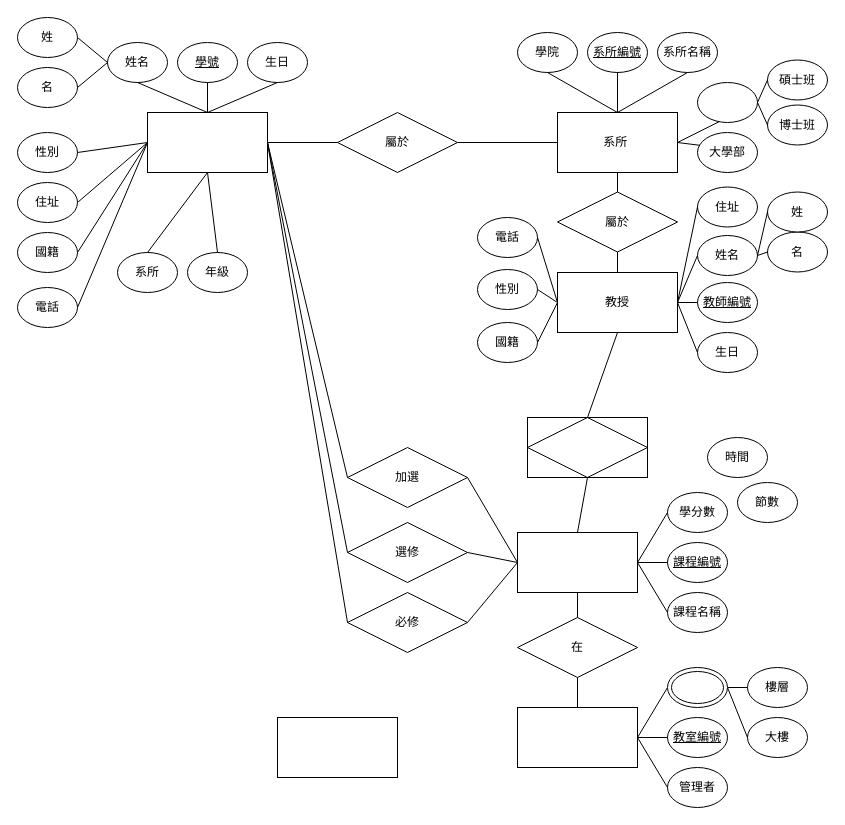
Some shapes in this 845 by 825 pixel diagram are drawn without their labels. Each missing label, with the centre of its shape:
"地點" belongs at [697,687].
"學生" belongs at [207,142].
"擋修" belongs at [337,747].
"教室" belongs at [577,737].
"研究所" belongs at [727,102].
"課程" belongs at [577,562].
"開課" belongs at [587,447].
